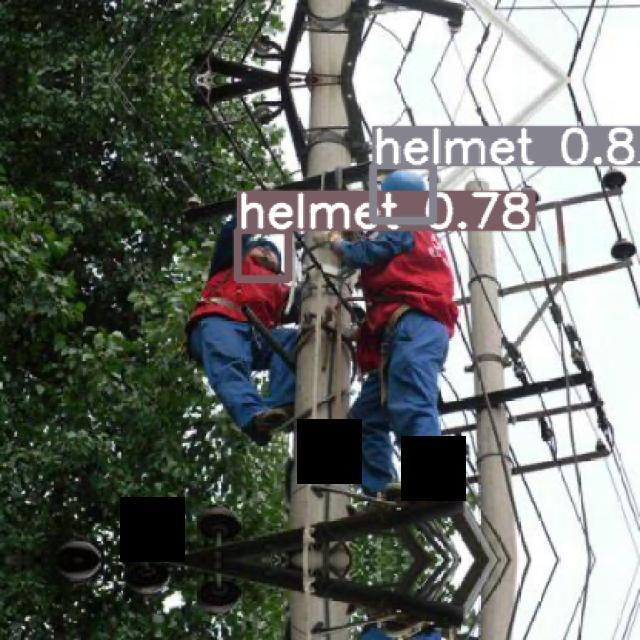blue helmet: (381, 160, 441, 219), (244, 229, 292, 287)
